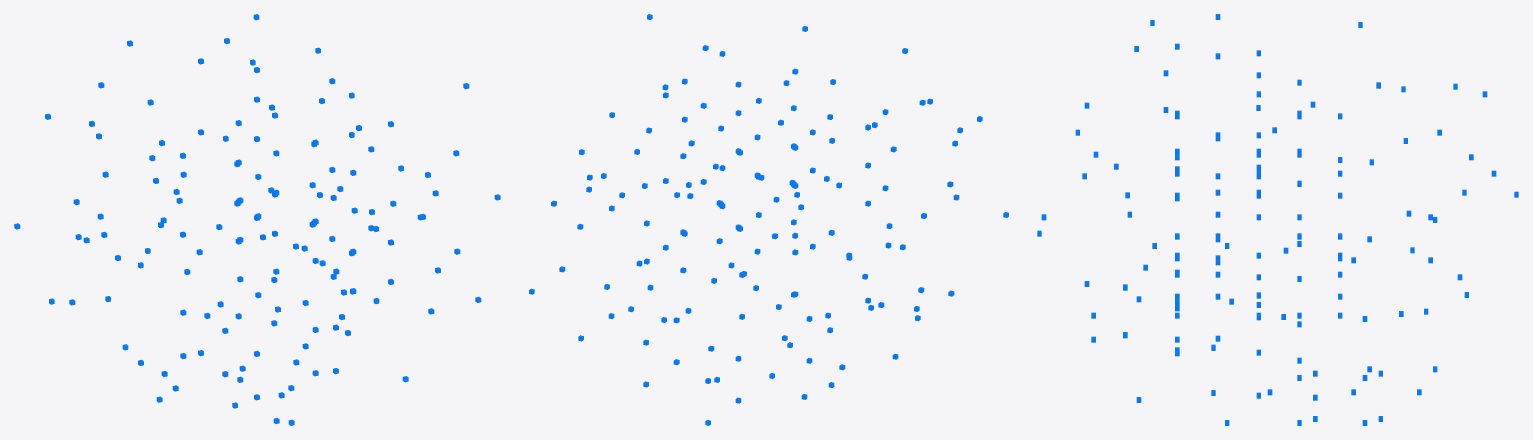
The model's file is particles_totemy.glb.
3 renders of one model, left to right at view 1: azimuth 30°, elevation 25°; view 2: azimuth 150°, elevation 25°; view 3: azimuth 270°, elevation 25°, orthographic. The views are drawn at different scales.
Visible parts, largest first — view 1: emmisive_particles_totemy; view 2: emmisive_particles_totemy; view 3: emmisive_particles_totemy.
Boxes of the visible parts, bbox=[...] form: emmisive_particles_totemy: bbox=[14, 14, 500, 425]; emmisive_particles_totemy: bbox=[529, 14, 1008, 425]; emmisive_particles_totemy: bbox=[1037, 14, 1518, 425].
Bounding box in the file's own units: 2.22 × 1.76 × 2.13.
